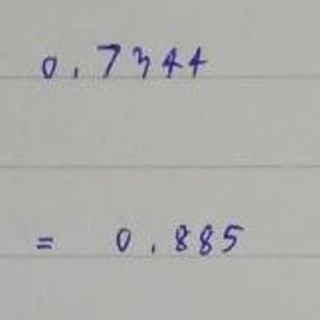.: (70, 63, 81, 79), (148, 240, 159, 255)
0: (114, 225, 132, 254), (40, 55, 59, 79)
3: (130, 44, 152, 79)
4: (186, 44, 210, 80), (161, 45, 183, 80)
5: (220, 223, 245, 254)
7: (96, 42, 122, 79)
8: (198, 223, 214, 258), (173, 222, 189, 253)
